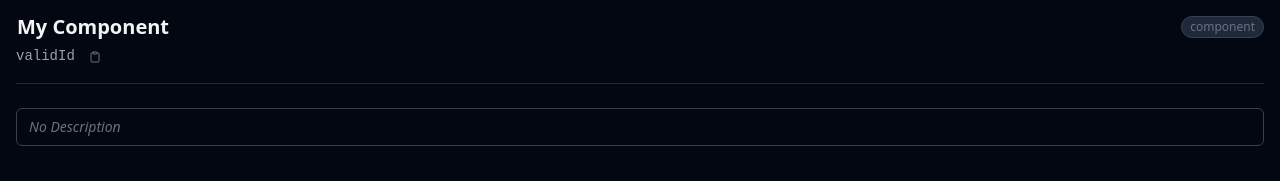
it: ComponentEditor › ID editing › shows error for invalid ID format while typing
The image size is (1280, 181).
Clear the field named "Node ID". click: (50, 56)
box: [16,46,83,67]
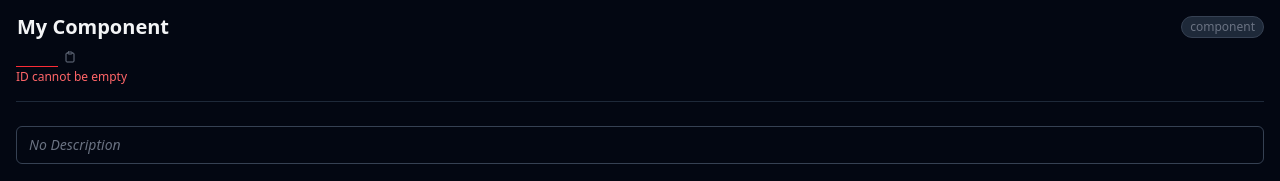
Type "1invalid" into the field named "Node ID". click: (37, 56)
box: [16,46,58,67]
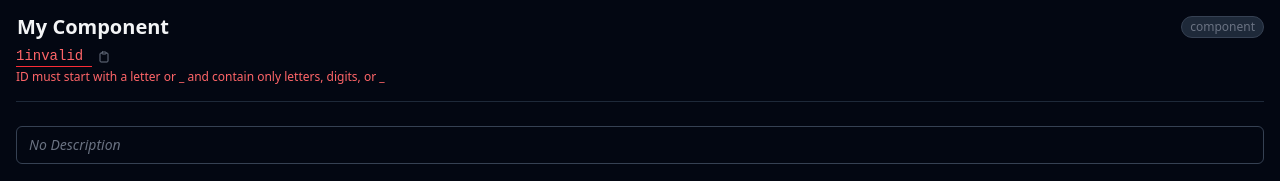
Result: the text "ID must start with a letter or _ and contain only letters, digits, or _" is shown at [16,68,385,85]
